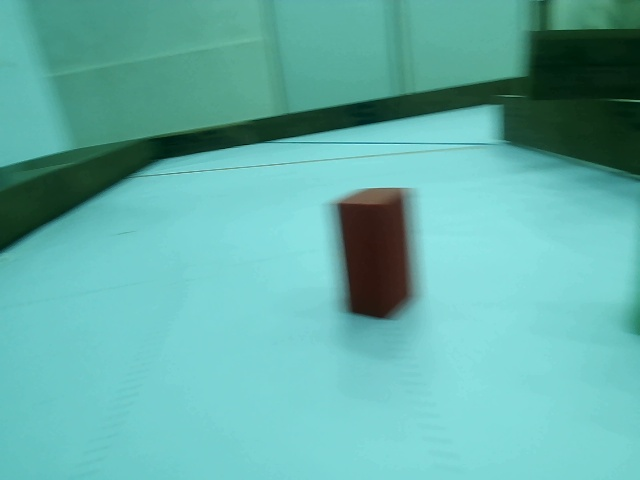red: (333, 186, 419, 320)
